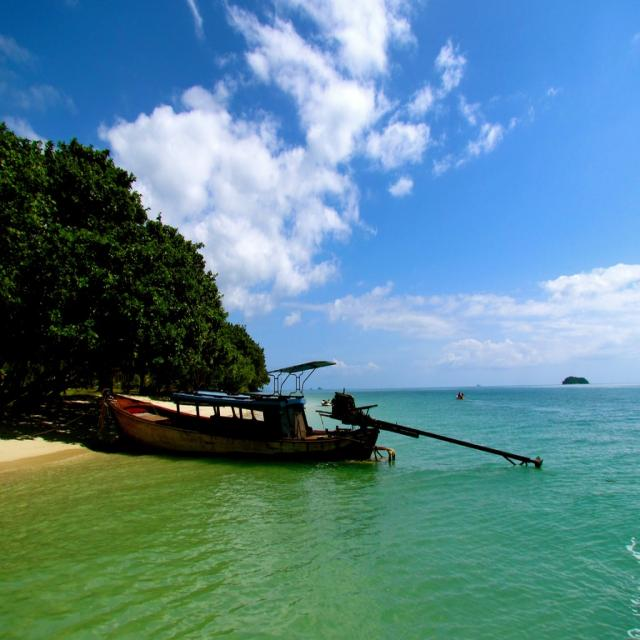Boat: (99, 355, 490, 470)
